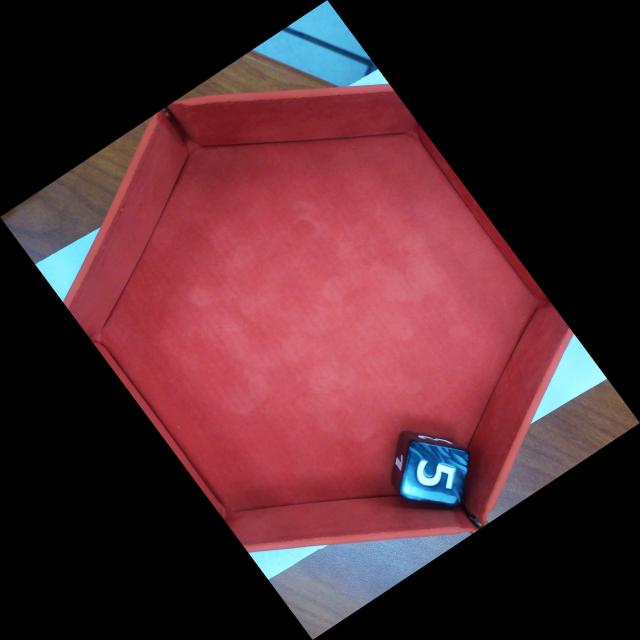dice: (399, 438, 471, 508)
